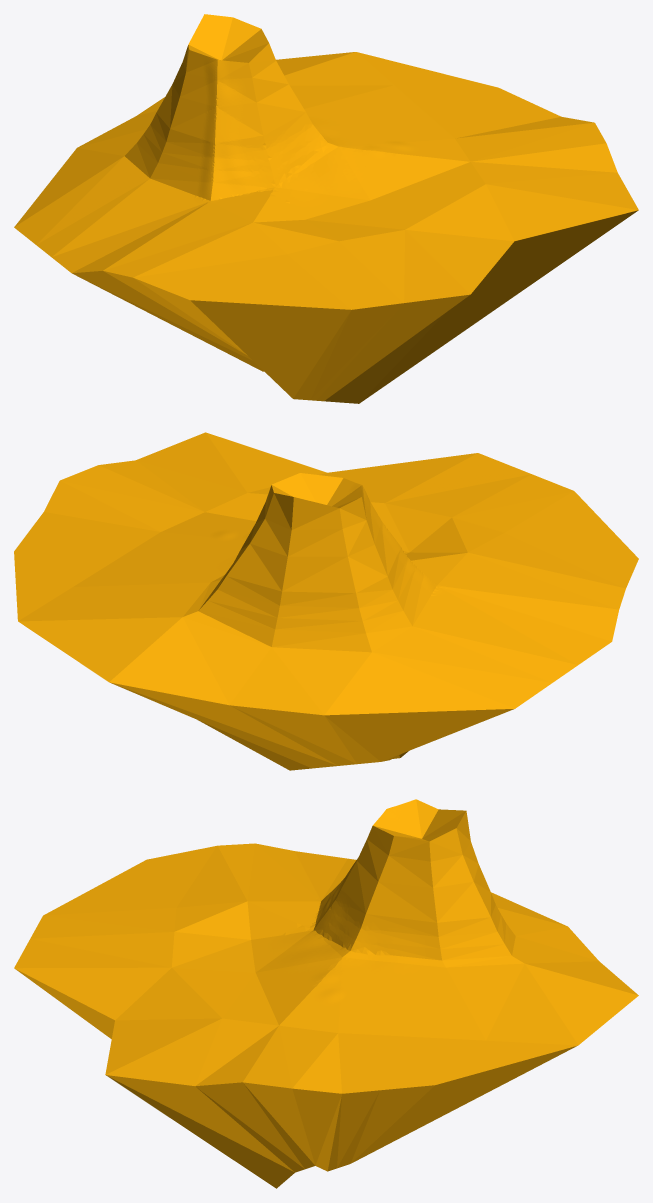
Rendered from land.fbx.
3 renders of one model, top to bottom at view 1: azimuth 30°, elevation 25°; view 2: azimuth 150°, elevation 25°; view 3: azimuth 270°, elevation 25°, orthographic. The views are drawn at different scales.
Parts seen in each view (by area): view 1: Cube; view 2: Cube; view 3: Cube.
Boxes of the visible parts, x1,y1,x2,y2 form: Cube: (14, 14, 638, 403); Cube: (14, 432, 638, 770); Cube: (14, 799, 638, 1188).
Size of the model in its own units: 4518 by 2788 by 4553.
